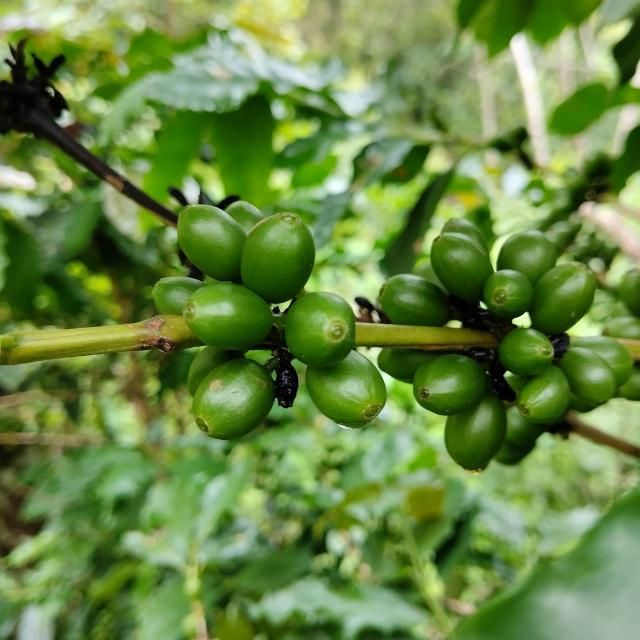green: (192, 358, 275, 440), (241, 212, 315, 303), (306, 350, 387, 429), (182, 282, 272, 351), (177, 204, 247, 281), (285, 292, 355, 368), (445, 391, 507, 473), (530, 262, 596, 335), (414, 354, 488, 416), (431, 232, 495, 303), (379, 274, 452, 327), (559, 347, 617, 407), (498, 230, 558, 285), (571, 336, 634, 388), (517, 366, 571, 424), (187, 346, 244, 397), (499, 328, 555, 376), (484, 269, 534, 321), (378, 349, 443, 384), (152, 276, 205, 315), (442, 218, 490, 254), (225, 200, 265, 234)
